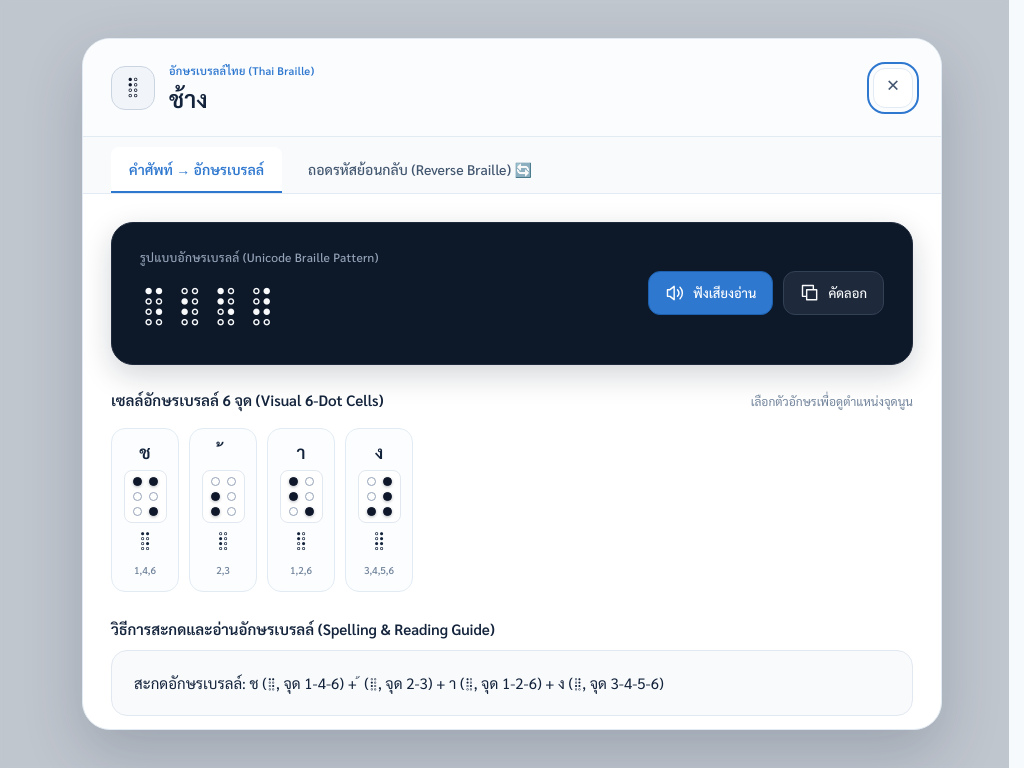
Test: BrailleModal Component - Reverse Braille Mode › displays ambiguity alert when Braille cells share multiple Thai consonants
This screenshot has width=1024, height=768.
Click the tab "ถอดรหัสย้อนกลับ (Reverse Braille) 🔄".
click(420, 170)  # box x1=290 y1=147 x2=550 y2=193
(page scrolled)
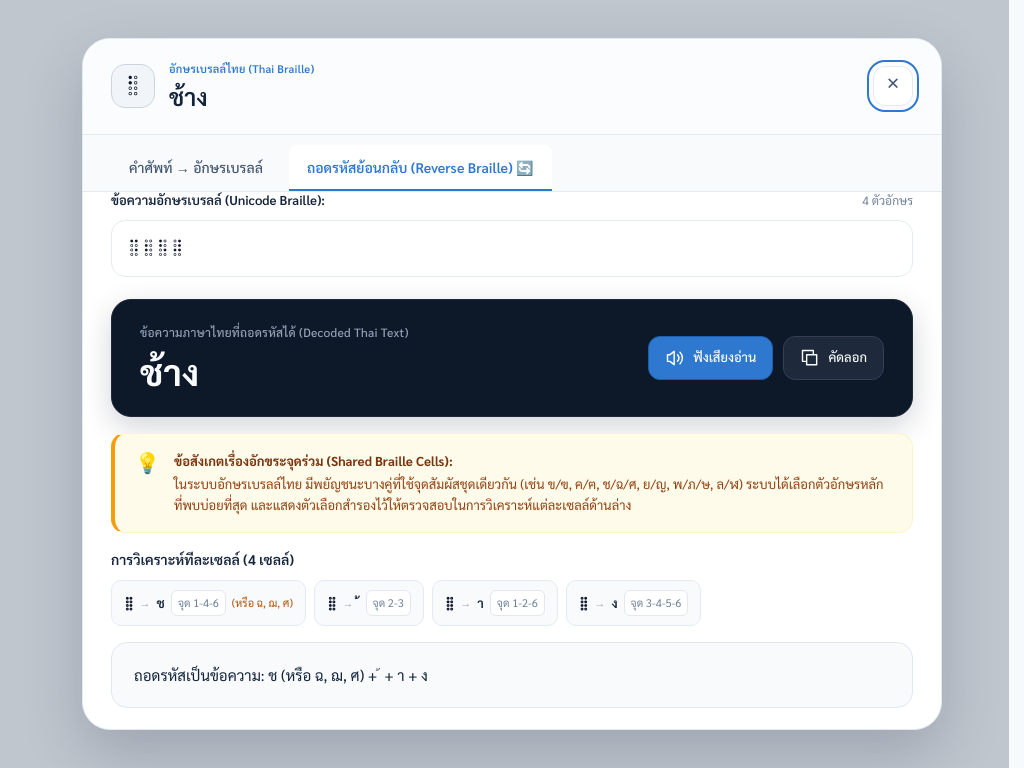
Now the element named "ข้อสังเกตจุดร่วมอักษรเบรลล์" is shown, box x1=111 y1=433 x2=913 y2=533
Now the text "ข้อสังเกตเรื่องอักขระจุดร่วม (Shared Braille Cells):" is shown, box x1=174 y1=452 x2=453 y2=469
